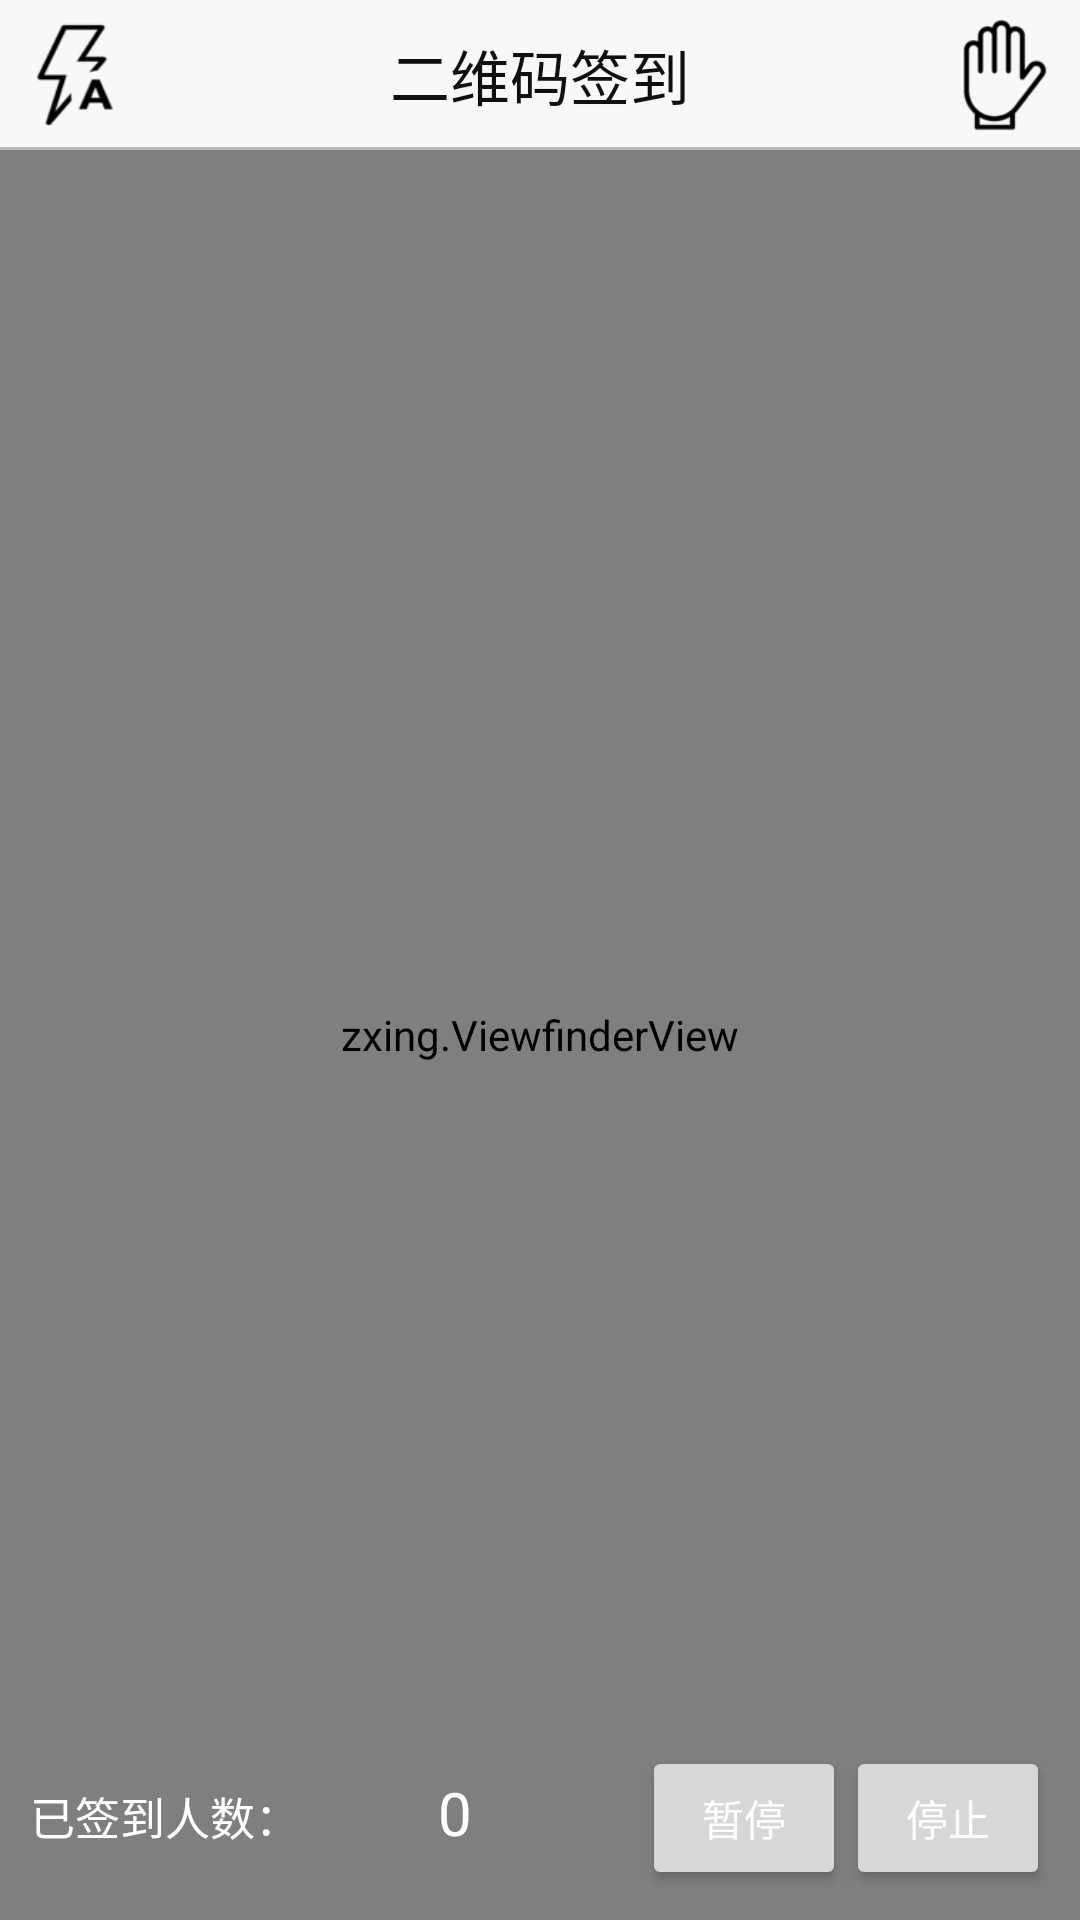

Named icons in this screenshot (1080 x 1920) and their bounding boxes, [left=x1, top=y1, right=x2, bottom=y2]:
deng: [left=37, top=24, right=113, bottom=126]
hand: [left=963, top=20, right=1047, bottom=130]
